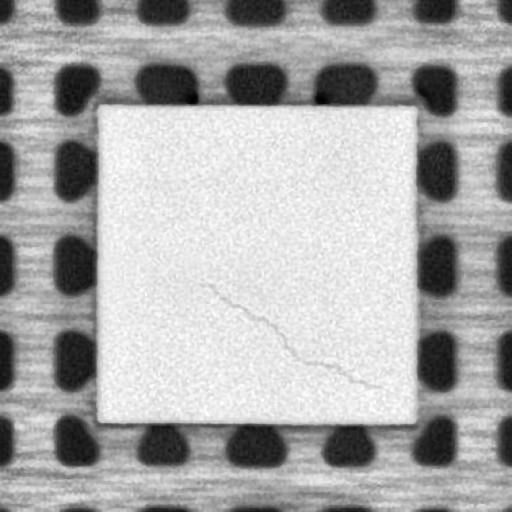DIE_CRACK: (204, 280, 380, 390)
